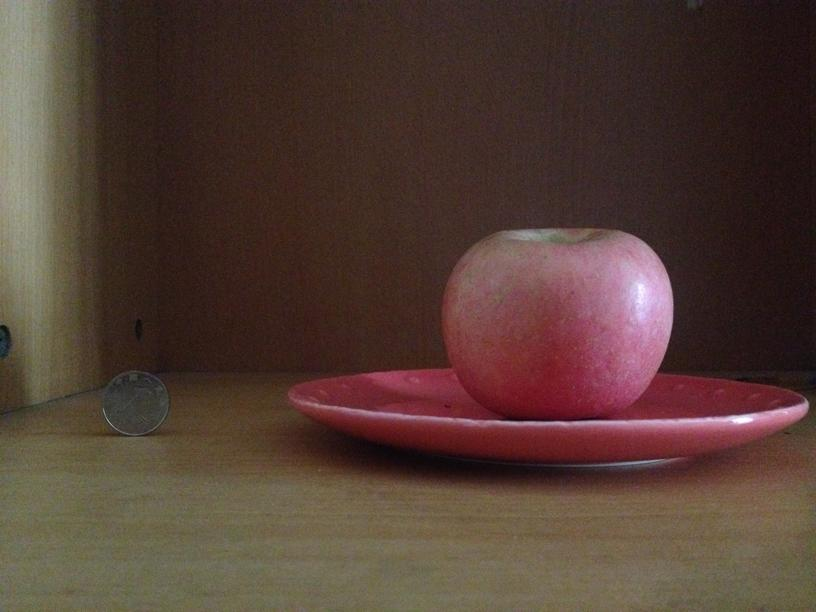apple: (442, 228, 676, 417)
coin: (99, 371, 171, 434)
